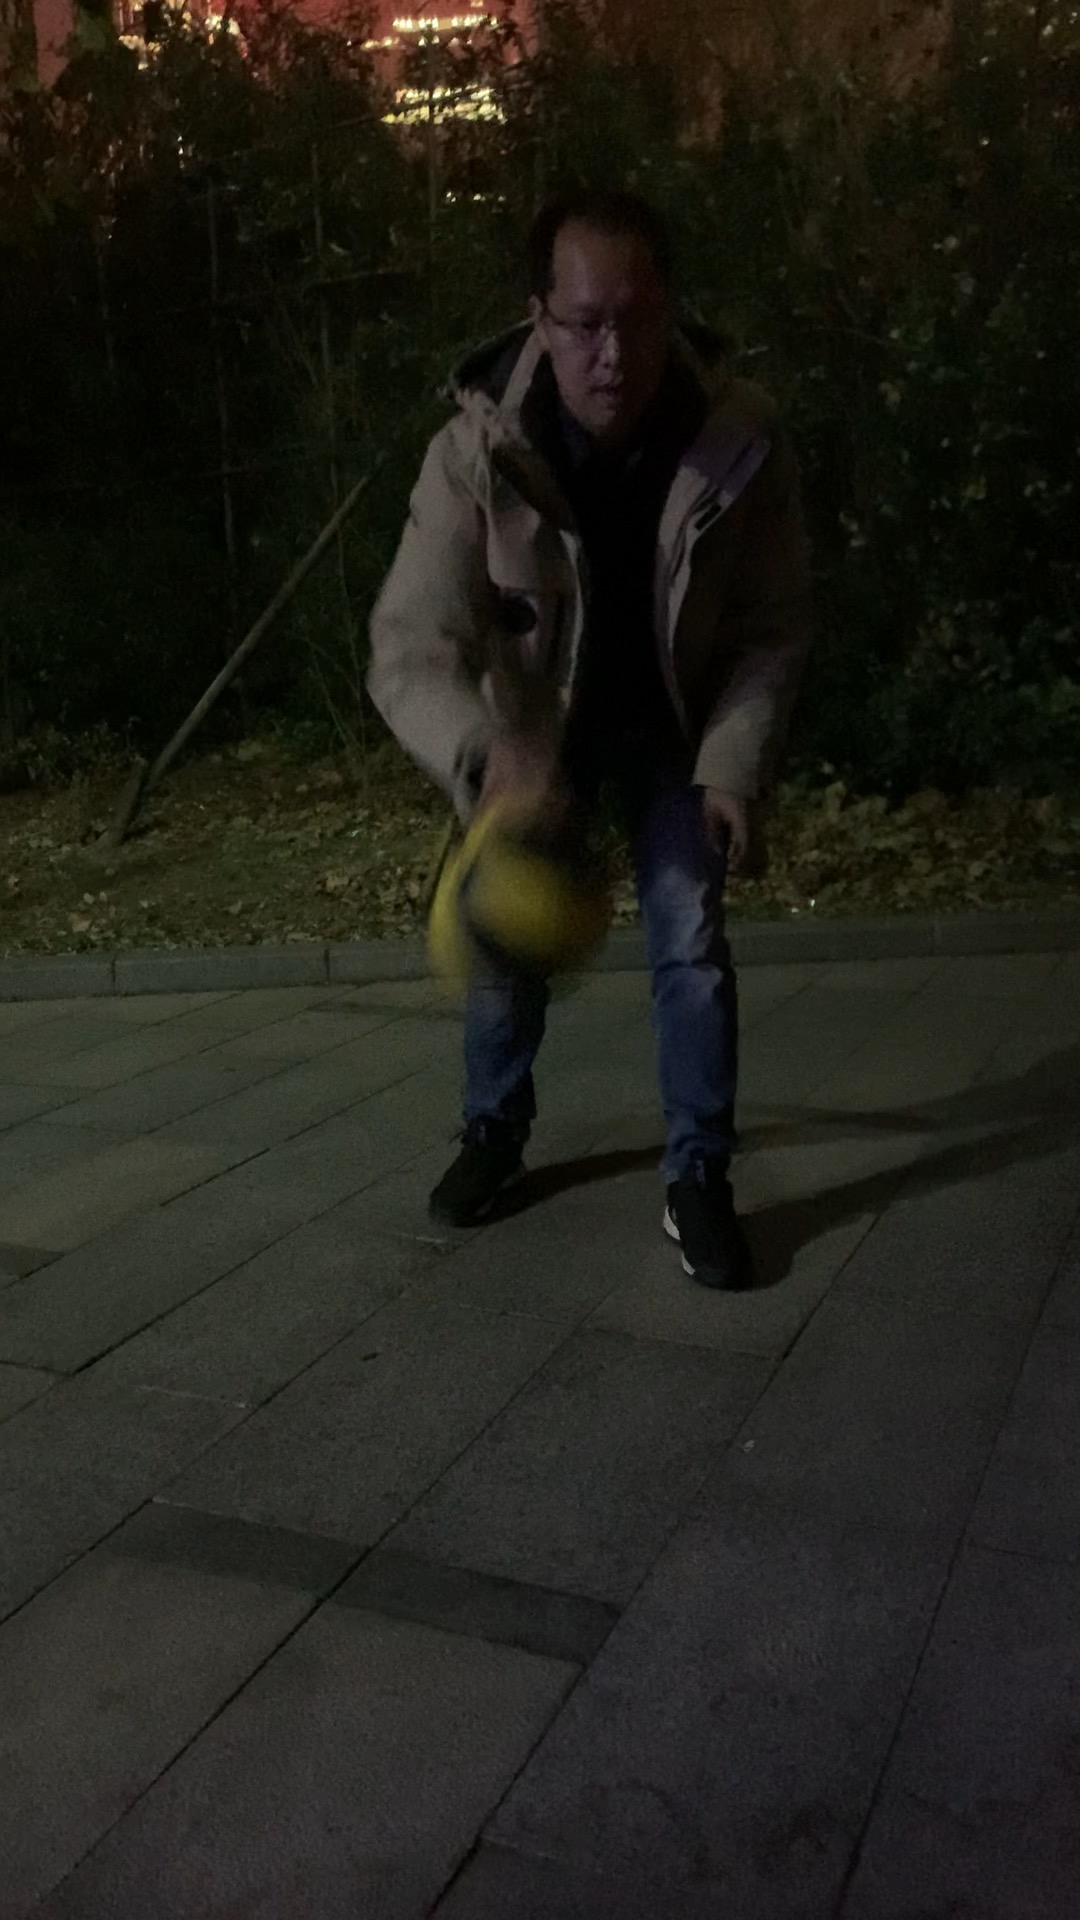ball: (426, 806, 620, 996)
